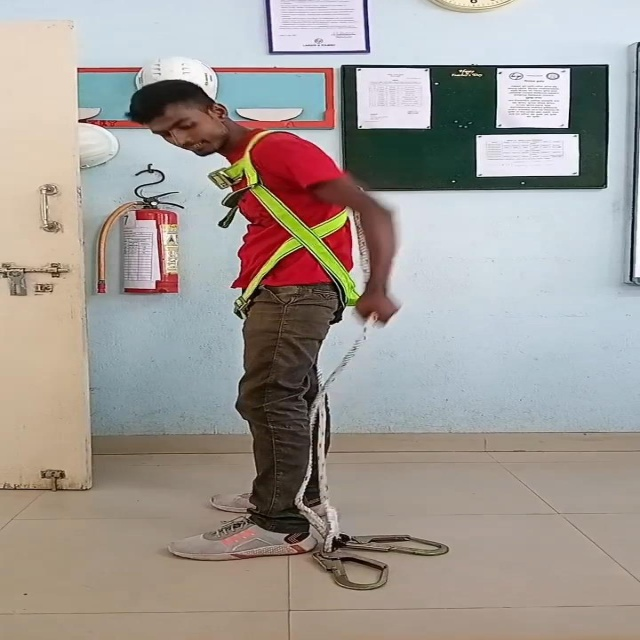Arnes_seguridad: (200, 129, 366, 332)
